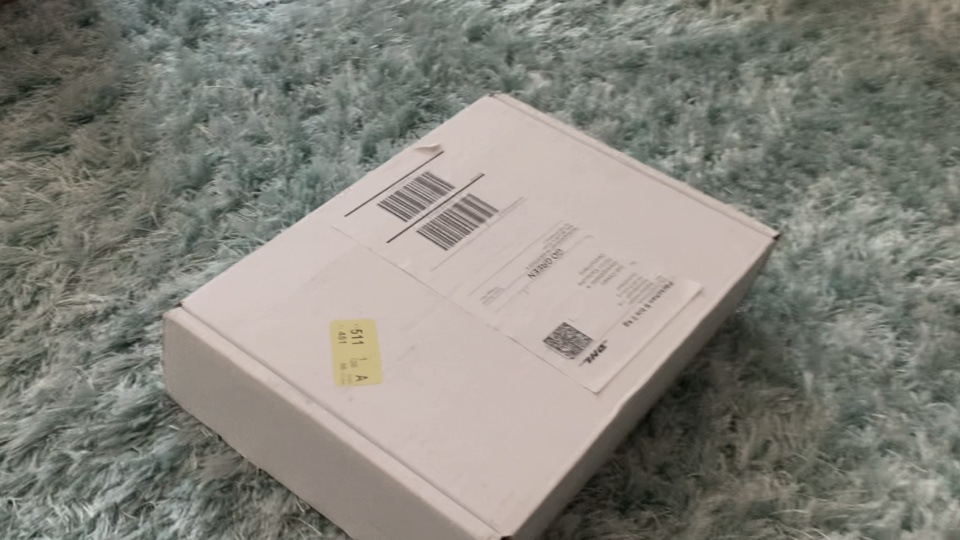good-parcel: (162, 92, 783, 540)
